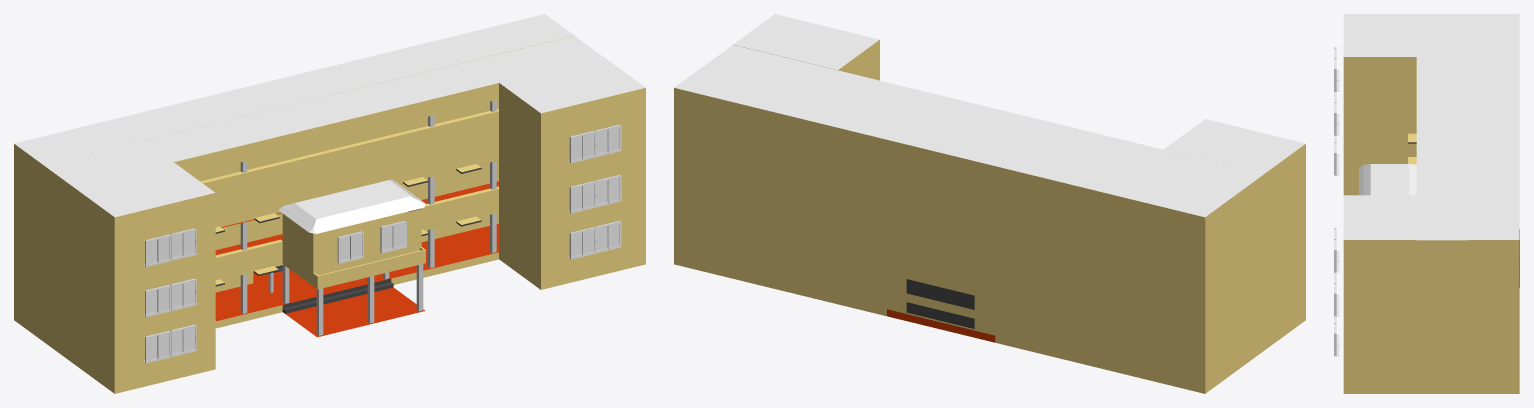
Rendered from MainBlock.glb.
The picture shows the model from 3 angles, left to right: view 1: azimuth 30°, elevation 25°; view 2: azimuth 150°, elevation 25°; view 3: azimuth 270°, elevation 25°; orthographic projection. The views are drawn at different scales.
Parts seen in each view (by area): view 1: Plane; view 2: Plane; view 3: Plane.
Part boxes in pixels (<box>): Plane: <box>14,14,645,393</box>; Plane: <box>674,14,1305,393</box>; Plane: <box>1343,14,1519,393</box>.
Size of the model in its own units: 505 by 161 by 176.
